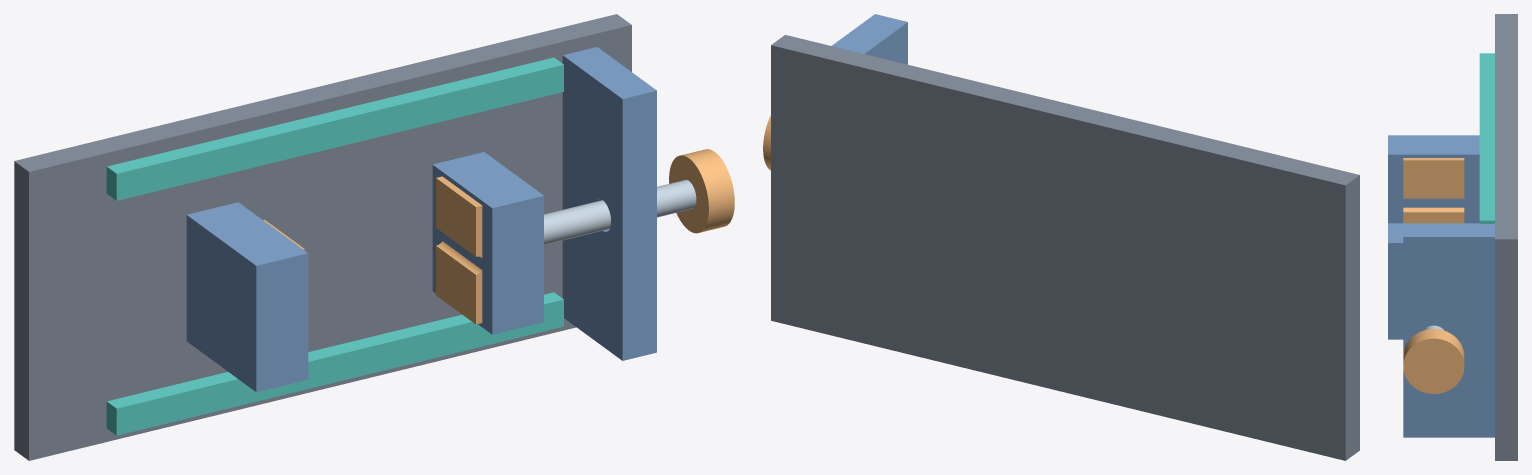
Rendered from assembly.glb.
3 renders of one model, left to right at view 1: azimuth 30°, elevation 25°; view 2: azimuth 150°, elevation 25°; view 3: azimuth 270°, elevation 25°, orthographic. The views are drawn at different scales.
Visible parts, largest first — view 1: base, actuator_support, fixed_jaw, rail_right, rail_left, moving_jaw, moving_pad, knob, rod; view 2: base, actuator_support; view 3: actuator_support, base, fixed_jaw, fixed_pad, knob, rail_right, moving_jaw.
Part boxes in pixels (left/top/right/bottom): base: left=14, top=14, right=631, bottom=460; actuator_support: left=562, top=47, right=656, bottom=360; fixed_jaw: left=186, top=202, right=308, bottom=392; rail_right: left=106, top=57, right=563, bottom=200; rail_left: left=106, top=292, right=563, bottom=435; moving_jaw: left=432, top=152, right=543, bottom=334; moving_pad: left=436, top=176, right=482, bottom=324; knob: left=669, top=149, right=734, bottom=233; rod: left=544, top=179, right=696, bottom=244; base: left=771, top=35, right=1359, bottom=460; actuator_support: left=832, top=14, right=907, bottom=64; actuator_support: left=1403, top=224, right=1494, bottom=437; base: left=1495, top=14, right=1517, bottom=460; fixed_jaw: left=1388, top=135, right=1479, bottom=223; fixed_pad: left=1403, top=158, right=1464, bottom=223; knob: left=1403, top=329, right=1464, bottom=393; rail_right: left=1479, top=53, right=1494, bottom=223; moving_jaw: left=1388, top=223, right=1479, bottom=339.
Bounding box in the file's own units: 0.1448 × 0.0619 × 0.0329.
